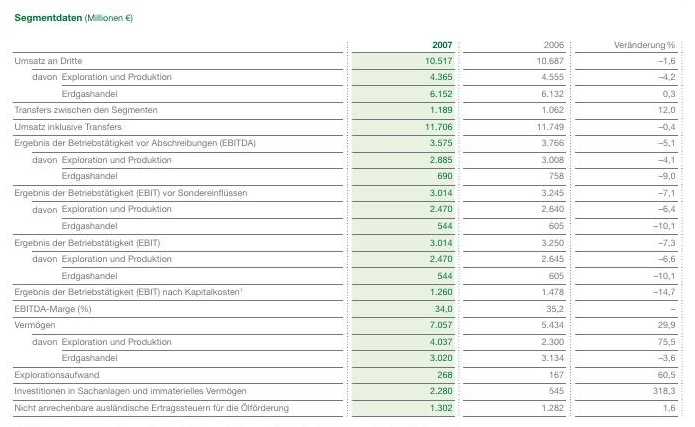table: (0, 0, 695, 427)
